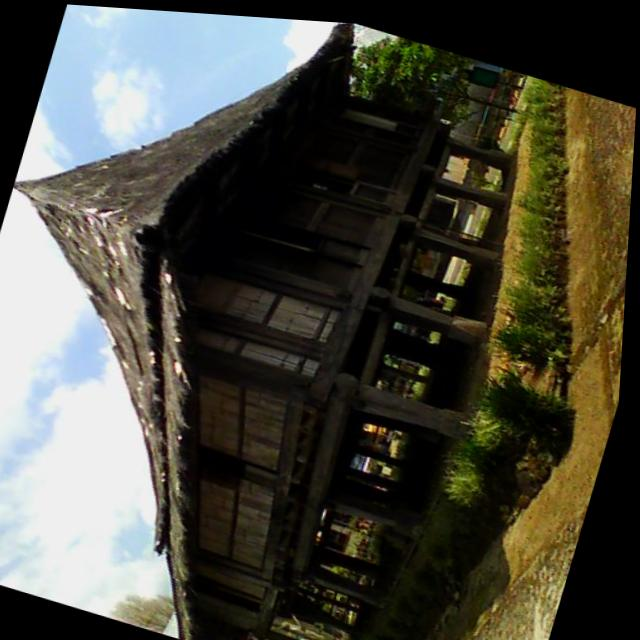Atap: (13, 23, 350, 640)
Kolom: (448, 138, 512, 171)
